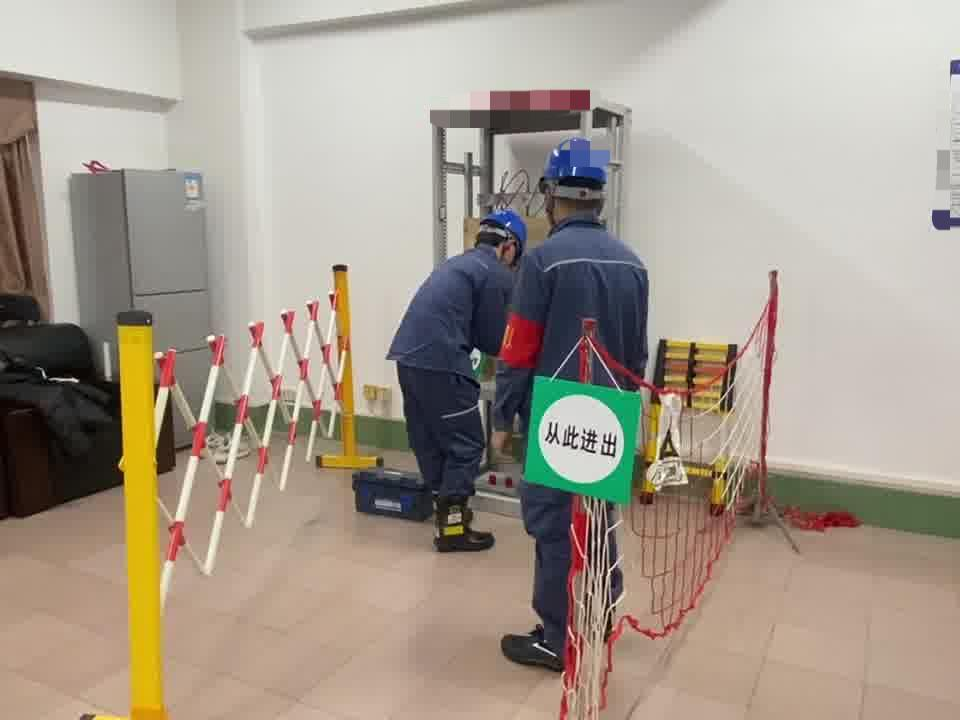halt: (542, 139, 613, 223), (480, 211, 531, 265)
